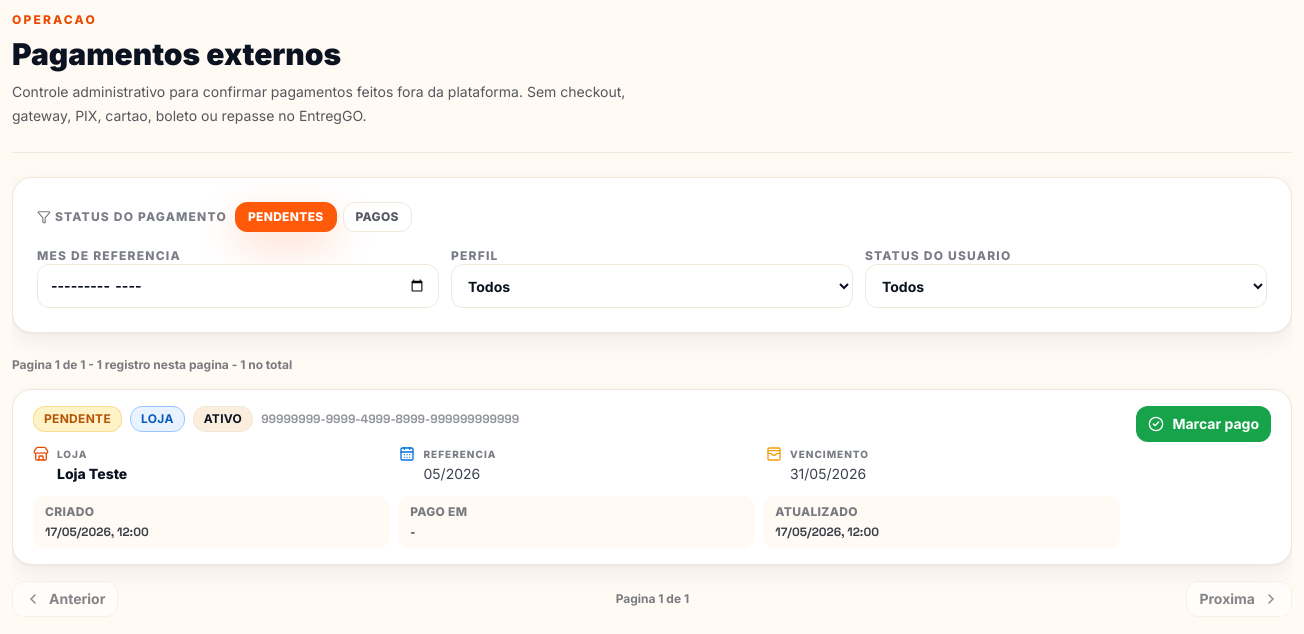
Test: AdminPaymentsPanel › blocks duplicate mark-paid clicks while the request is pending
Double-click the button "Marcar pago": (1204, 424) [1136,406,1271,442]
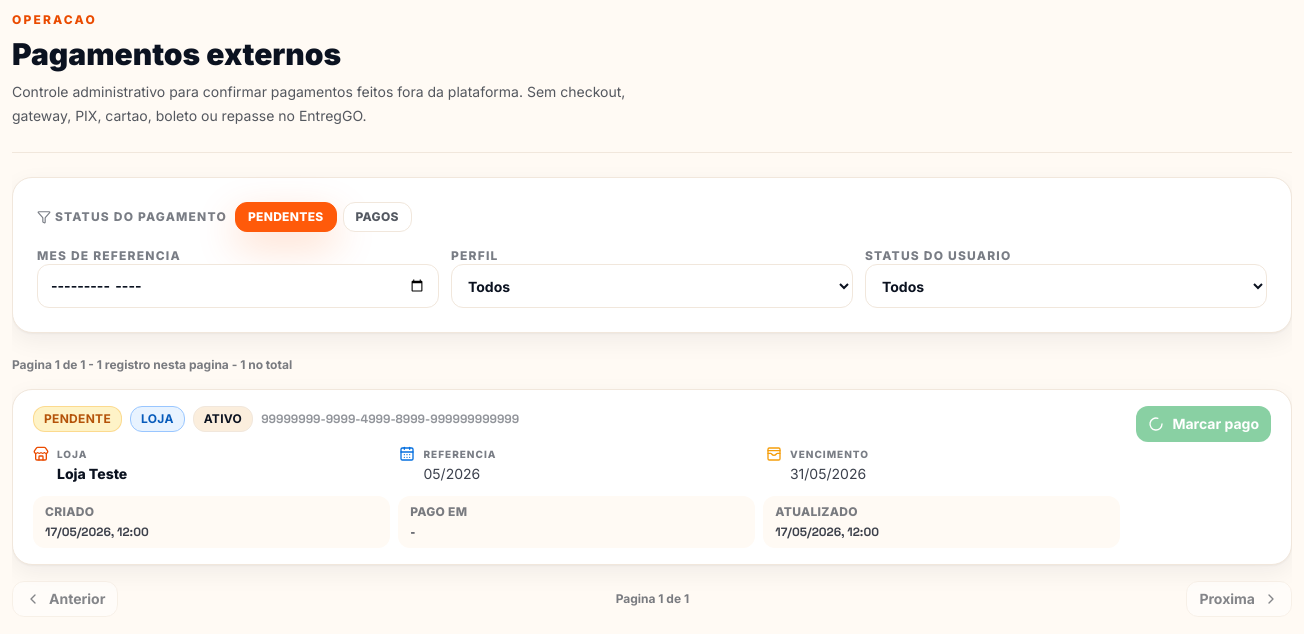
Now the button "Marcar pago" is disabled, box [1136,406,1271,442]
